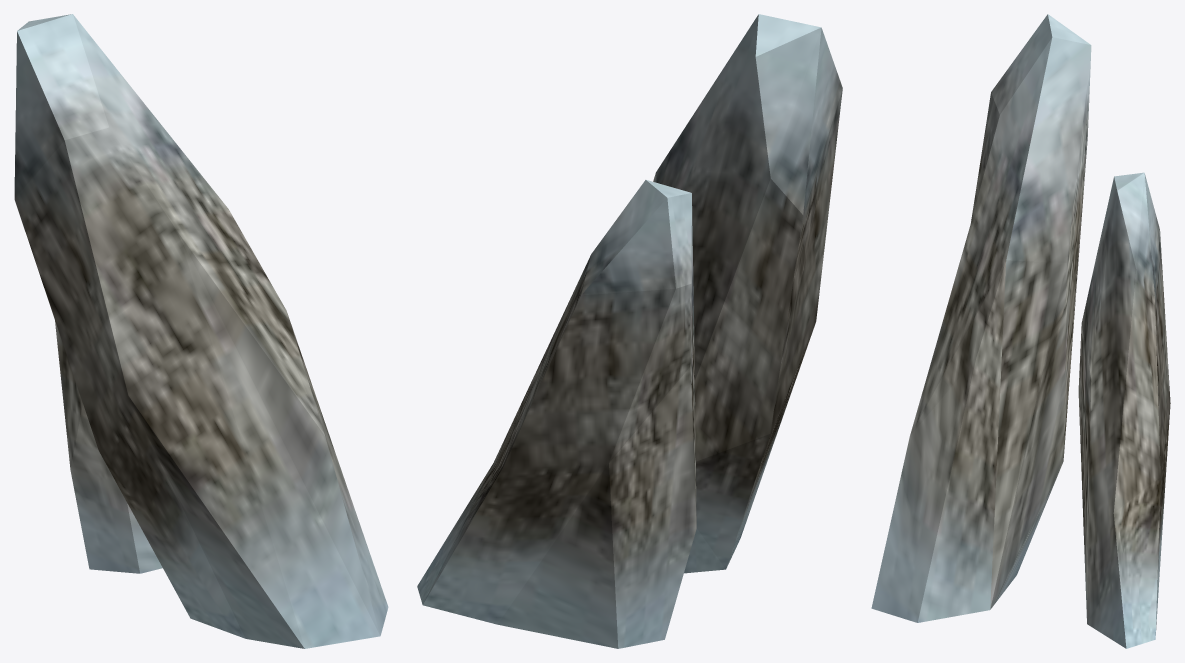
3 views of the same model, side by side, from view 1: azimuth 30°, elevation 25°; view 2: azimuth 150°, elevation 25°; view 3: azimuth 270°, elevation 25° (orthographic). The views are drawn at different scales.
Visible parts, largest first — view 1: a83; view 2: a83; view 3: a83.
Part boxes in pixels (x1,y1,x2,y2): a83: (14, 14, 388, 648); a83: (417, 14, 842, 648); a83: (871, 14, 1170, 648).
Bounding box in the file's own units: 772 × 1266 × 693.
